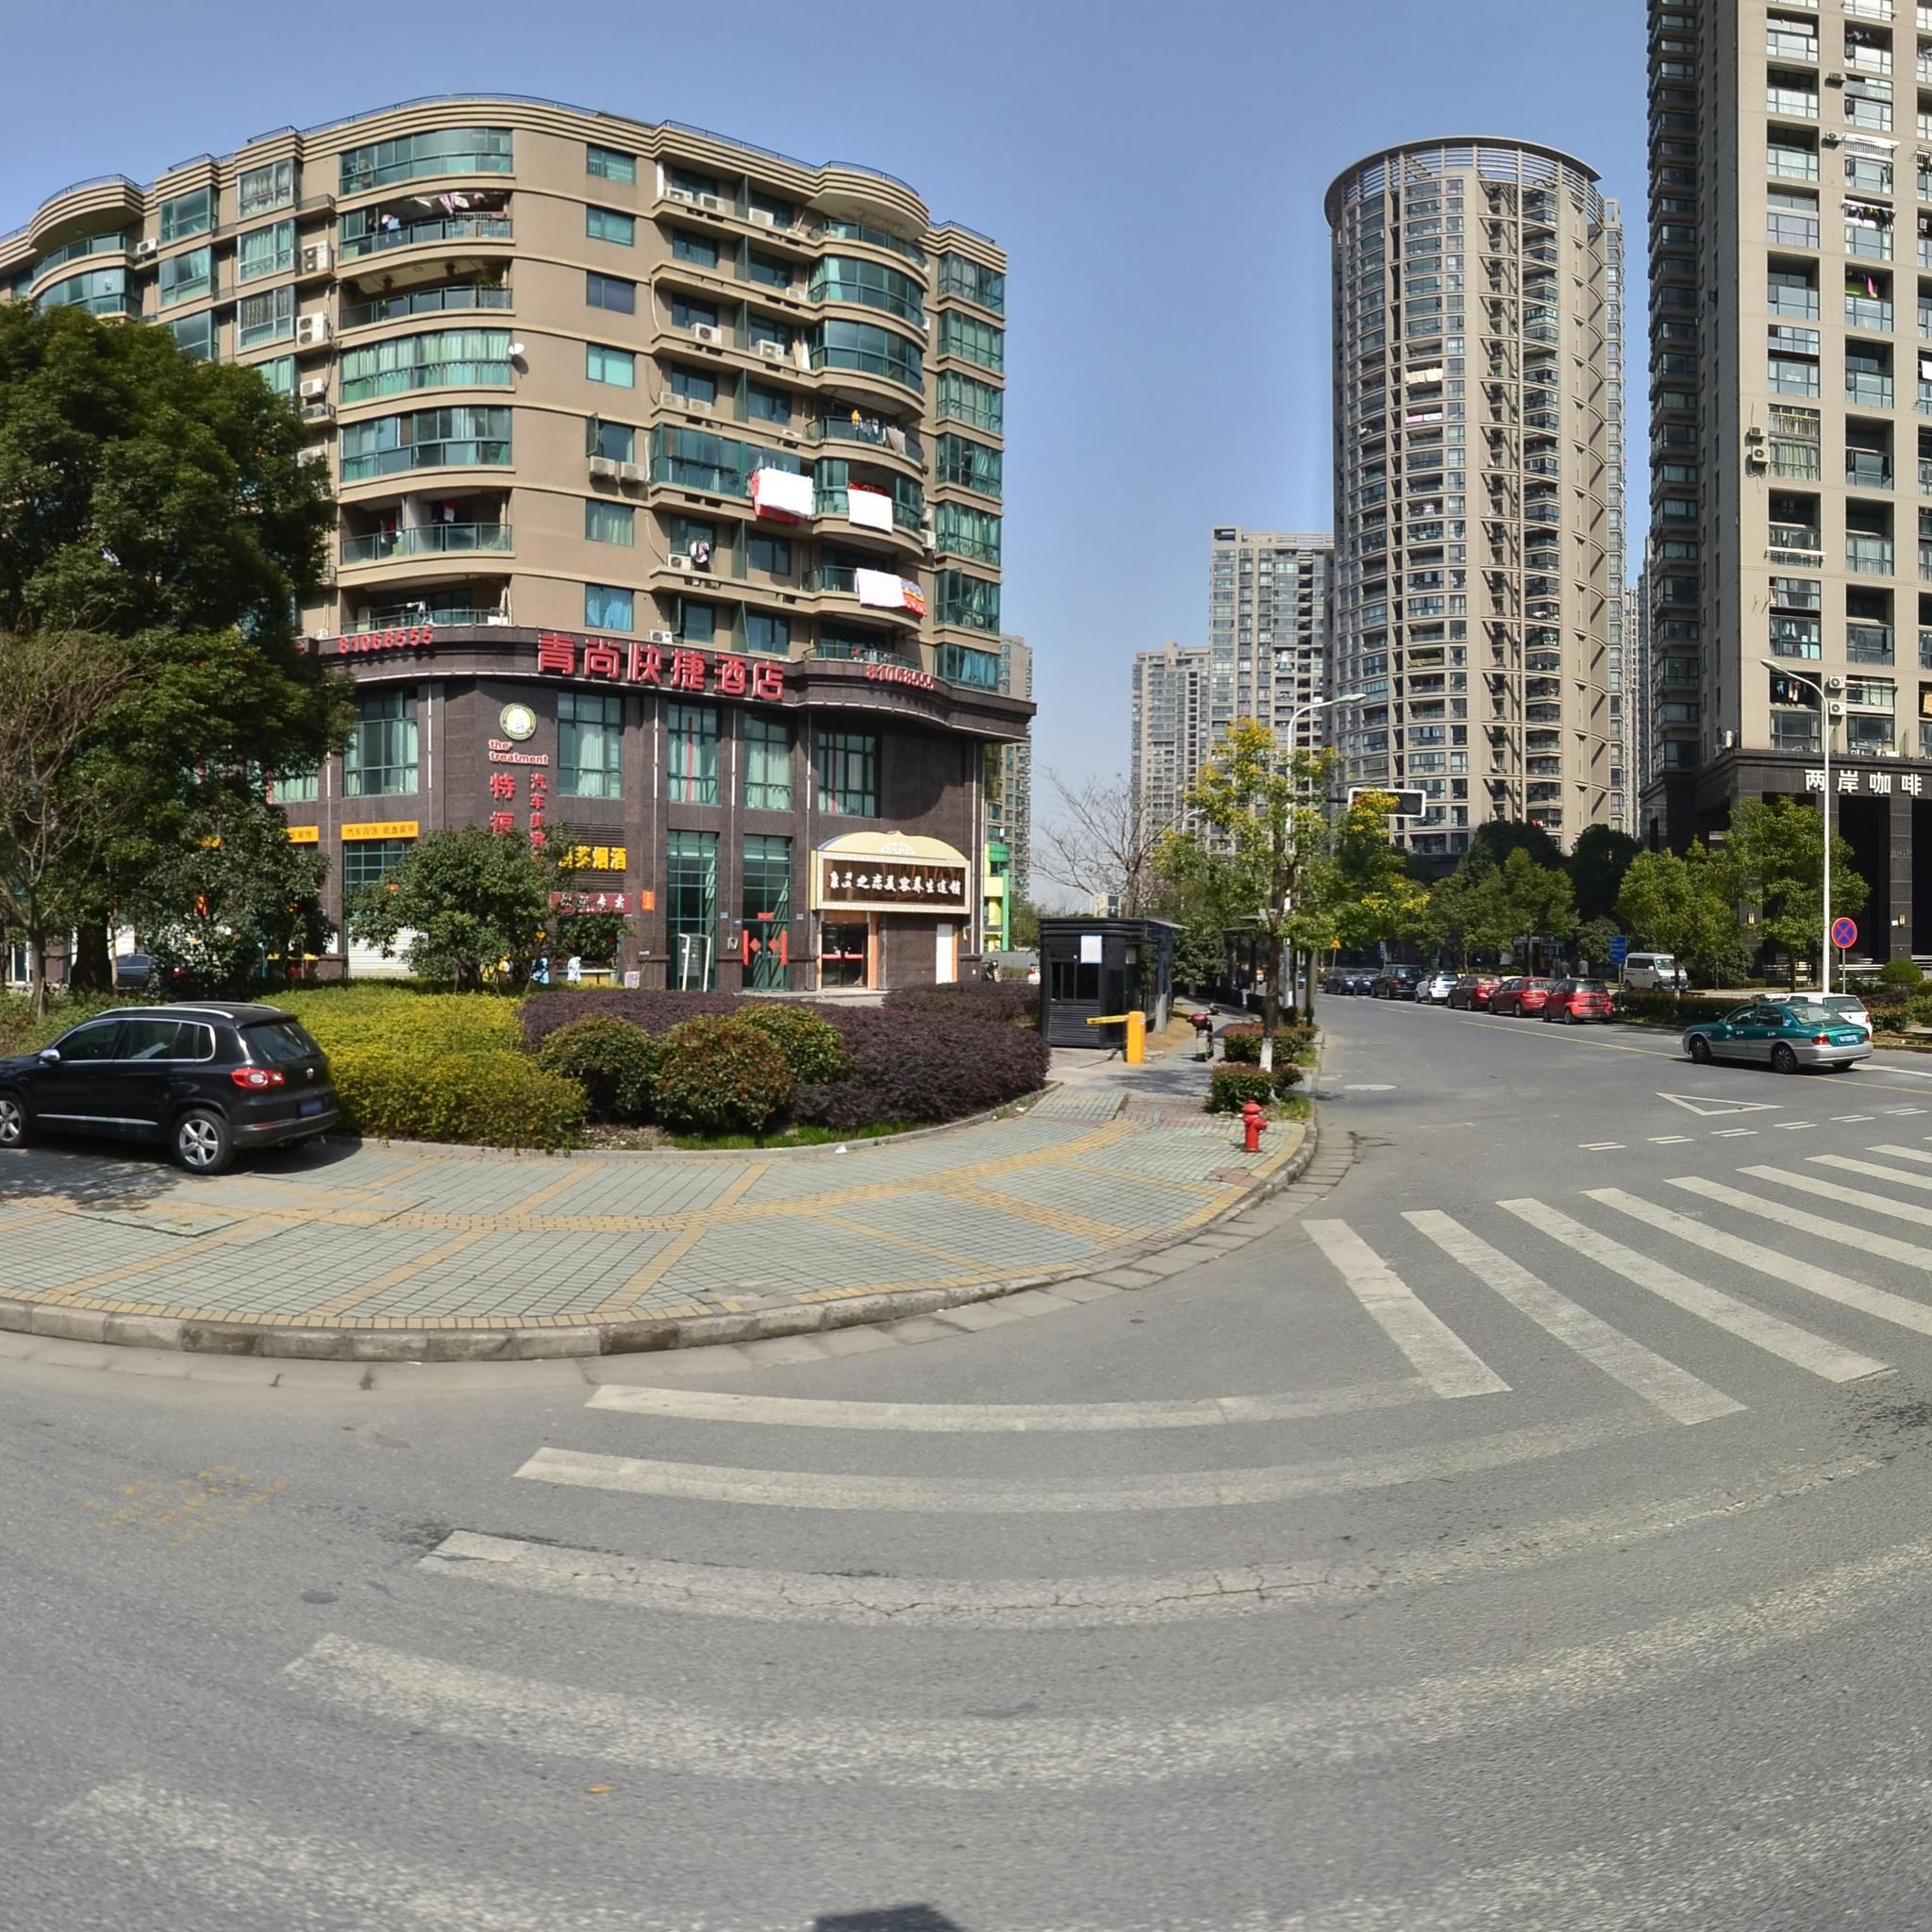pn: (1828, 915, 1861, 950)
